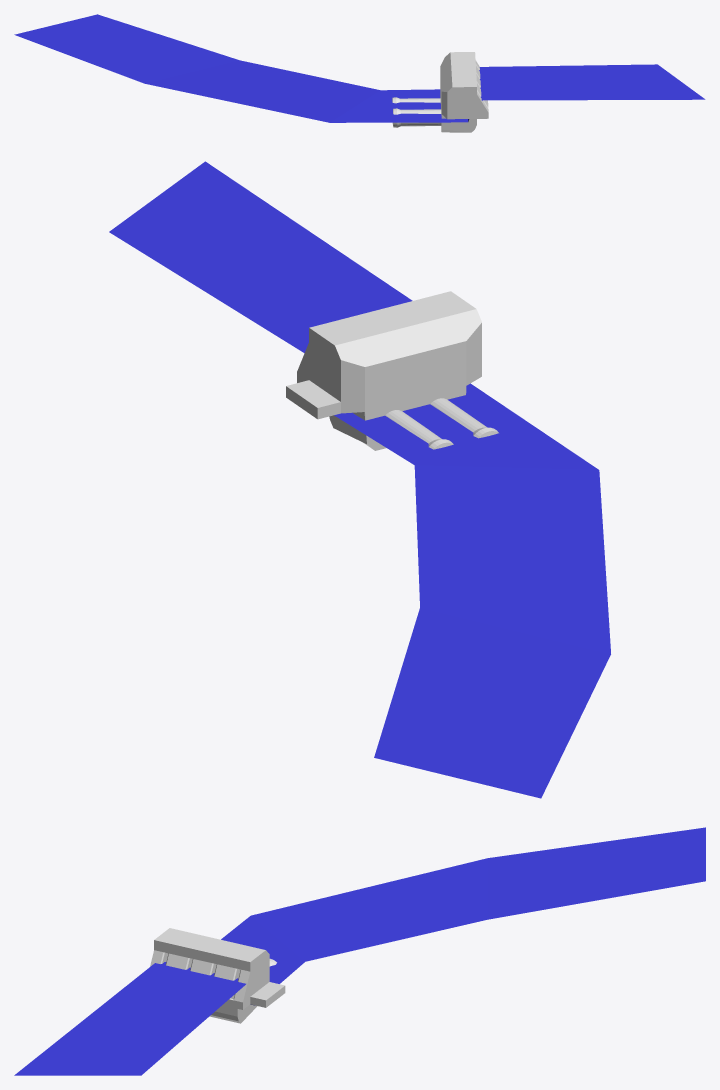
The model's file is Wasserwerk2.fbx.
3 views of the same model, one above another, from view 1: azimuth 30°, elevation 25°; view 2: azimuth 150°, elevation 25°; view 3: azimuth 270°, elevation 25° (orthographic). The views are drawn at different scales.
Visible parts, largest first — view 1: Wasserfluß, Wasserwerk, Wassereinlass2, WasserEinlass1; view 2: Wasserfluß, Wasserwerk; view 3: Wasserfluß, Wasserwerk.
Part boxes in pixels (x1=…): Wasserfluß: x1=14, y1=14, x2=705, y2=122; Wasserwerk: x1=440, y1=52, x2=488, y2=132; Wassereinlass2: x1=392, y1=108, x2=441, y2=127; WasserEinlass1: x1=392, y1=97, x2=440, y2=103; Wasserfluß: x1=109, y1=161, x2=610, y2=798; Wasserwerk: x1=286, y1=291, x2=481, y2=450; Wasserfluß: x1=14, y1=827, x2=705, y2=1075; Wasserwerk: x1=150, y1=928, x2=285, y2=1023.
Bounding box in the file's own units: 36 × 4.22 × 38.
